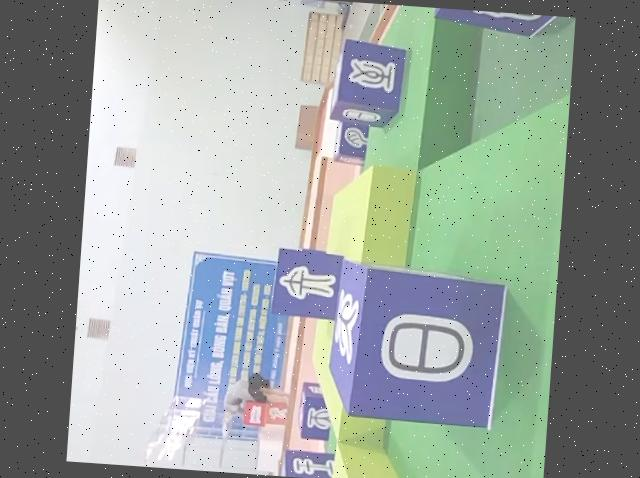R2 Fake Blue: (321, 255, 510, 429), (329, 39, 408, 130), (270, 243, 346, 319), (433, 8, 575, 42), (297, 381, 335, 441), (280, 447, 336, 478), (333, 117, 370, 163)
